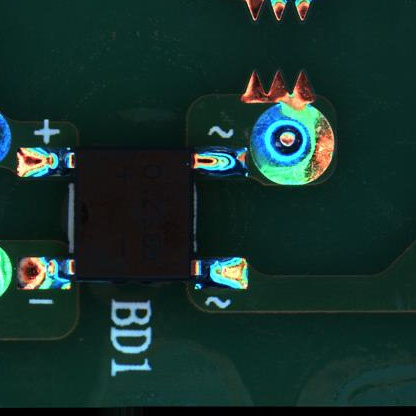spot: (247, 98, 342, 191)
